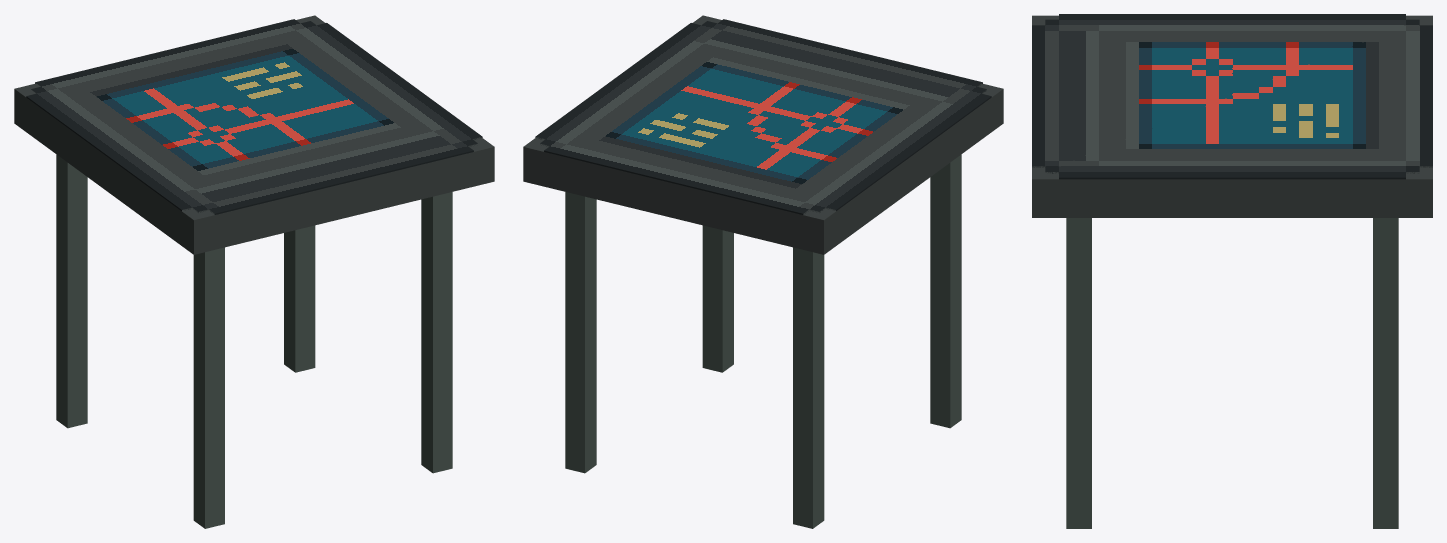
File: CMU3DInteriorCMUTacticalMapTableGovfor.glb
3 renders of one model, left to right at view 1: azimuth 30°, elevation 25°; view 2: azimuth 150°, elevation 25°; view 3: azimuth 270°, elevation 25°, orthographic. The views are drawn at different scales.
Parts seen in each view (by area): view 1: source table surface, table leg (×4), tabletop; view 2: source table surface, table leg (×4), tabletop; view 3: source table surface, tabletop, table leg (×2).
Boxes of the visible parts, <box> form: source table surface: <box>26,19,482,214</box>; table leg (×4): <box>56,154,452,528</box>; tabletop: <box>14,15,494,254</box>; source table surface: <box>535,19,991,214</box>; table leg (×4): <box>565,154,961,528</box>; tabletop: <box>523,15,1003,254</box>; source table surface: <box>1032,14,1432,179</box>; tabletop: <box>1032,15,1432,217</box>; table leg (×2): <box>1066,218,1398,528</box>.
Size of the model in its own units: 0.9062 by 0.944 by 0.9375.
Materials: 3 (1 with a texture image).
